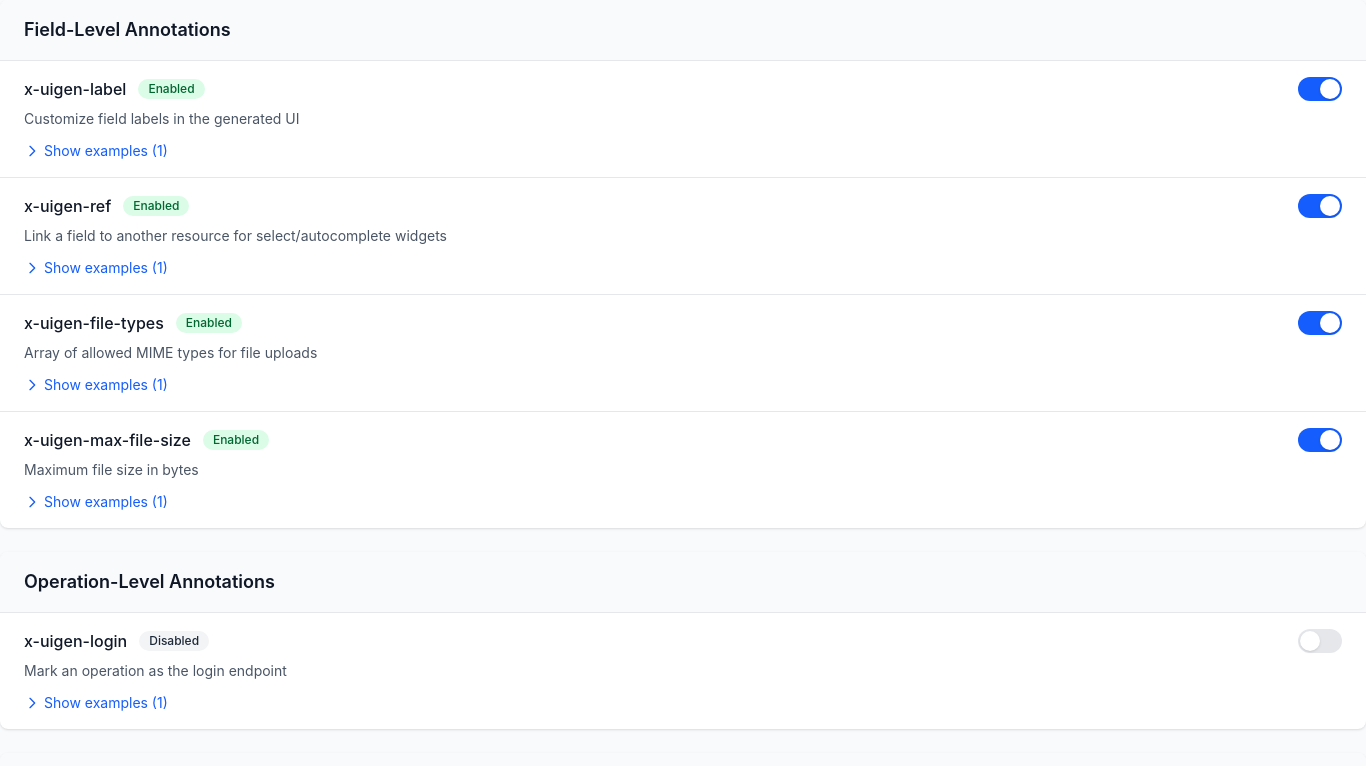
Scenario: AnnotationList › should display example descriptions and values
// Show examples for x-uigen-ref
Click the button "Show examples (1)" below "x-uigen-ref" at {"x": 96, "y": 268}, box x1=24 y1=258 x2=168 y2=278
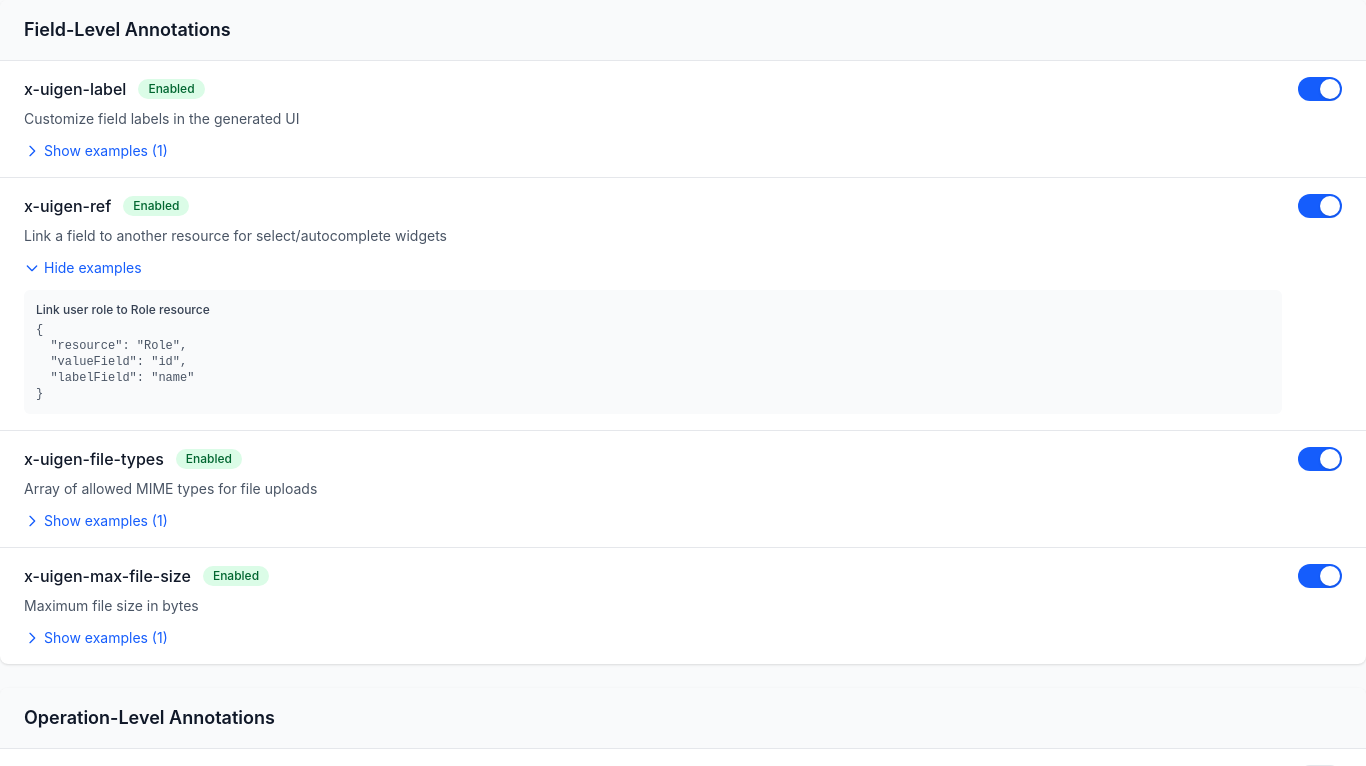
expect the text "Link user role to Role resource" is shown: met, box x1=36 y1=302 x2=210 y2=317
expect the text "\"resource\": \"Role\"" is shown: met, box x1=36 y1=323 x2=194 y2=401
